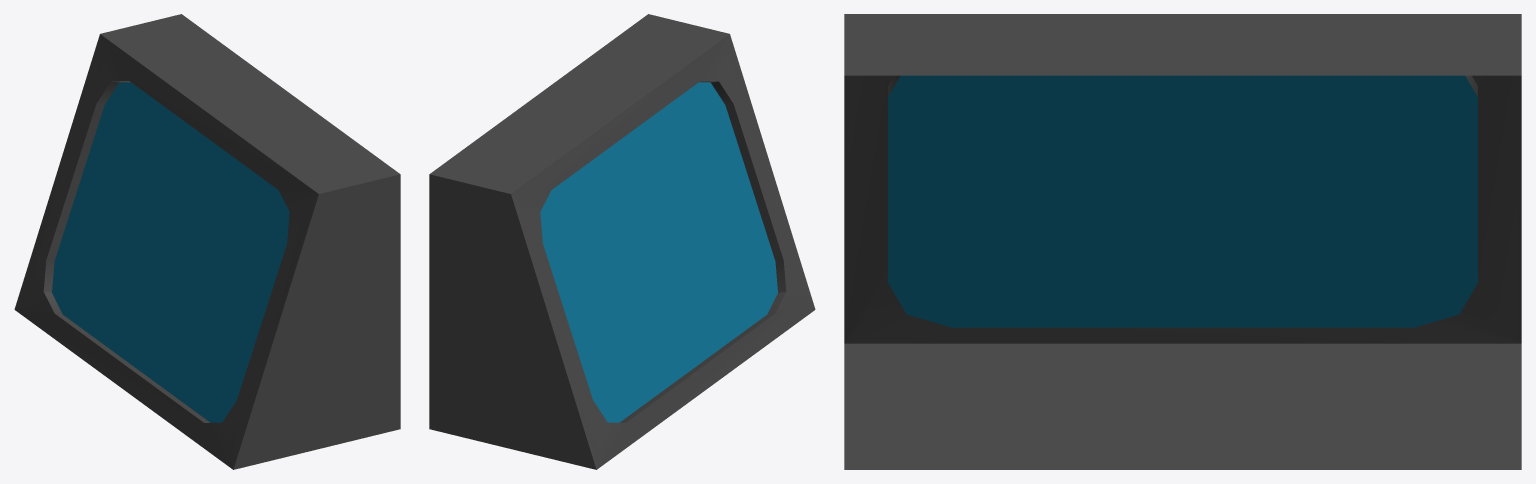
File: Terminal Screen.fbx
3 views of the same model, side by side, from view 1: azimuth 30°, elevation 25°; view 2: azimuth 150°, elevation 25°; view 3: azimuth 270°, elevation 25° (orthographic). The views are drawn at different scales.
Parts seen in each view (by area): view 1: pCube41; view 2: pCube41; view 3: pCube41.
Part boxes in pixels (x1,y1,x2,y2): pCube41: [14, 14, 400, 469]; pCube41: [429, 14, 815, 469]; pCube41: [844, 14, 1521, 469].
Bounding box in the file's own units: 31.94 × 46.55 × 72.45.
